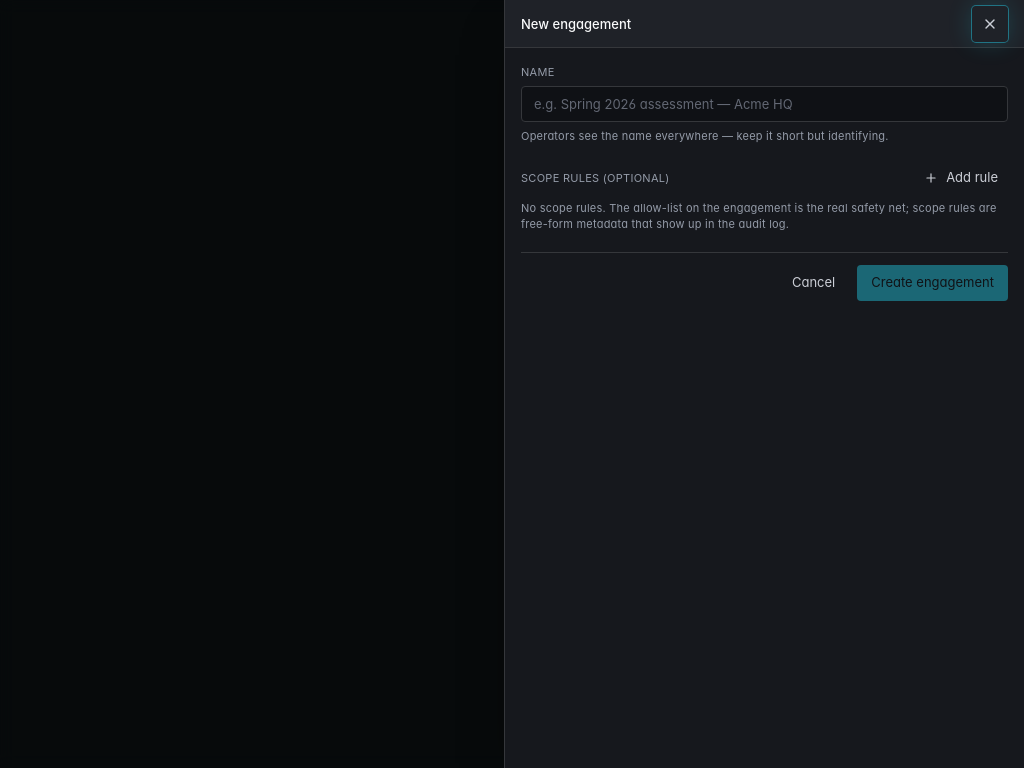
Test case: CreateEngagementDrawer › renders 403 admin/2FA copy when the backend refuses
The width and height of the screenshot is (1024, 768).
Type "Blocked" into the field labelled "Name" at (764, 104), box [521,86,1008,122]
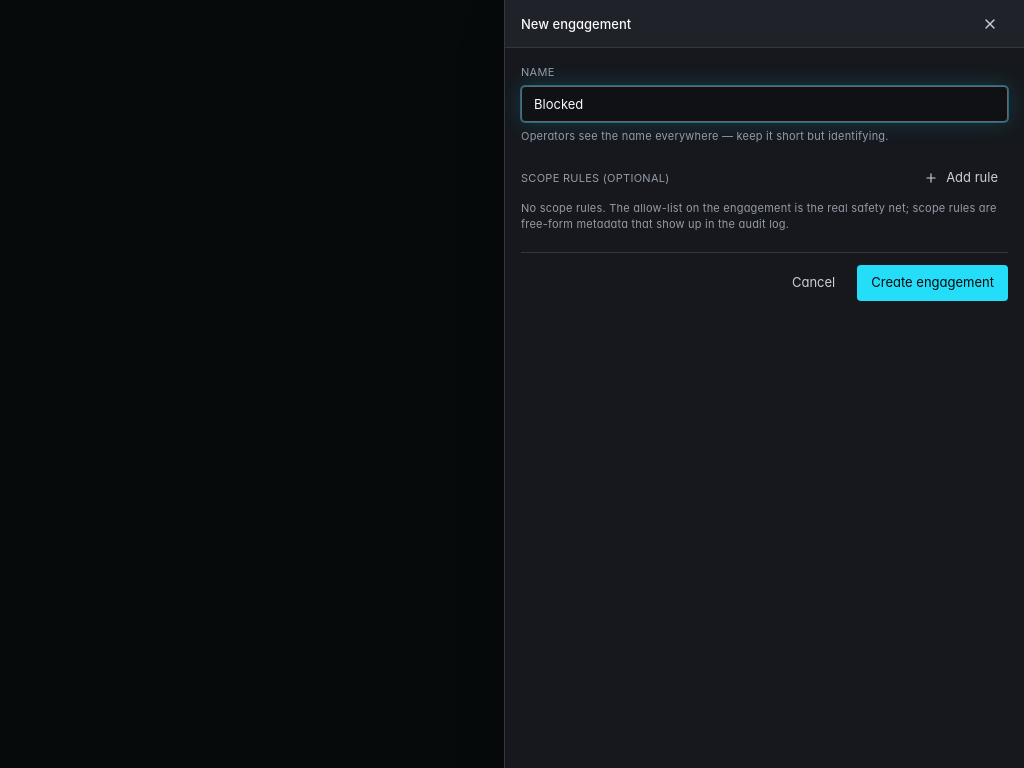
Click the button "Create engagement" at (933, 283), box [857,265,1008,301]
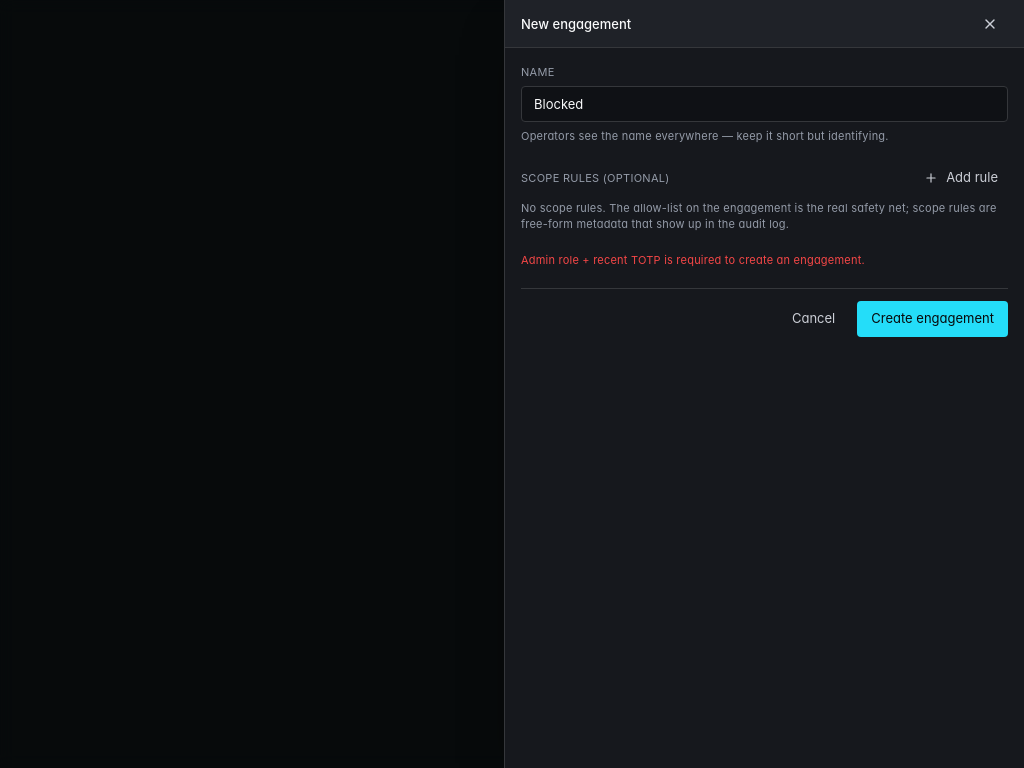
Expected: the message with test id "create-engagement-error" shows "Admin role + recent TOTP", [521,253,865,267]
